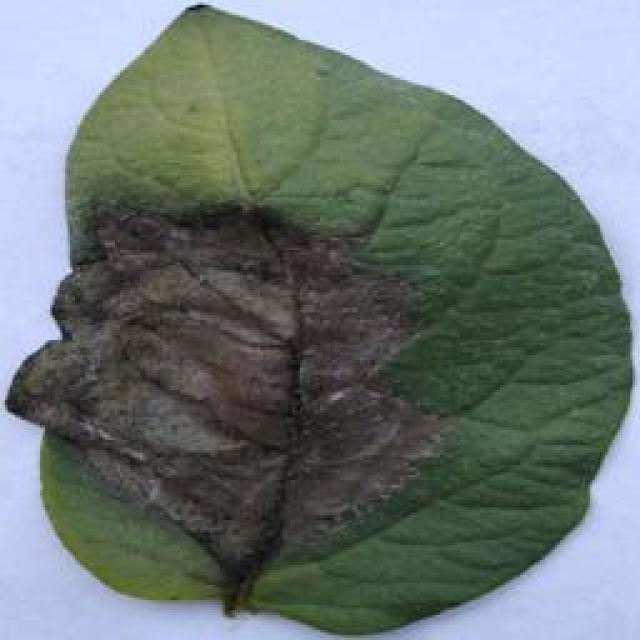Potato_Late_Blight: (0, 5, 628, 635)
